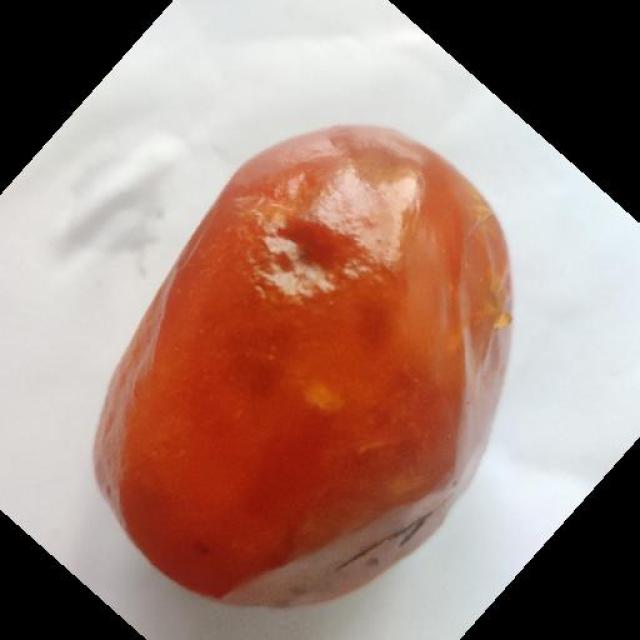Stale_tomato: (143, 173, 512, 591)
